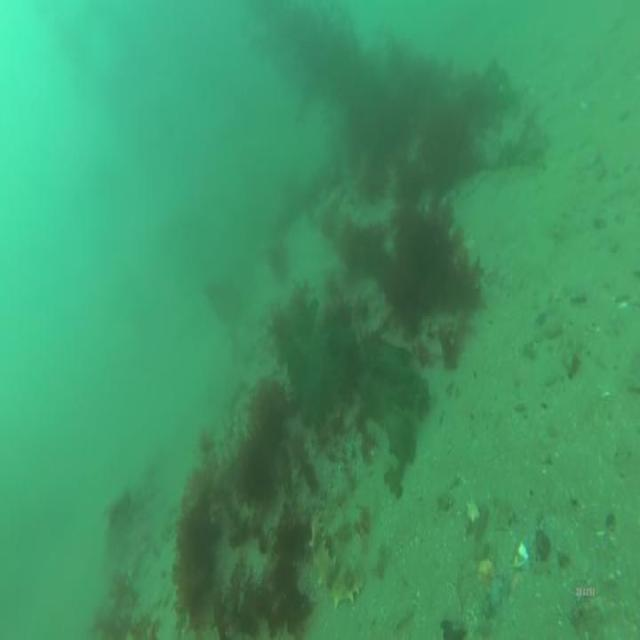holothurian: (332, 542, 374, 607), (308, 507, 338, 591)
waterweeds: (177, 4, 491, 640)
